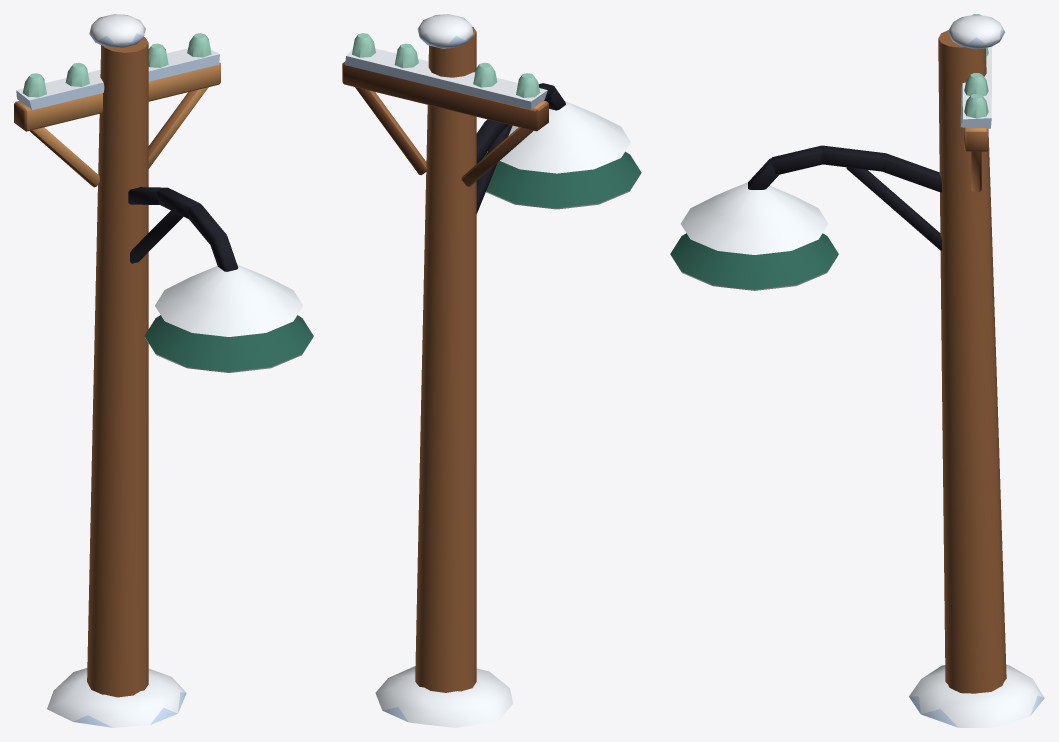
The model's file is LampPost.fbx.
3 views of the same model, side by side, from view 1: azimuth 30°, elevation 25°; view 2: azimuth 150°, elevation 25°; view 3: azimuth 270°, elevation 25° (orthographic).
Parts seen in each view (by area): view 1: LampPost; view 2: LampPost; view 3: LampPost.
Part boxes in pixels (left/top/right/bottom): LampPost: left=14, top=14, right=313, bottom=727; LampPost: left=342, top=14, right=641, bottom=727; LampPost: left=670, top=14, right=1044, bottom=727.
Size of the model in its own units: 1.1 by 3.65 by 1.82.
Materials: 1 (1 with a texture image).
